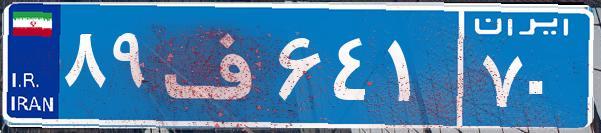0: (525, 38, 570, 115)
1: (385, 28, 445, 110)
4: (330, 28, 385, 110)
6: (273, 28, 330, 110)
7: (475, 38, 525, 113)
8: (57, 26, 110, 107)
9: (110, 28, 158, 105)
ف: (158, 15, 273, 115)
